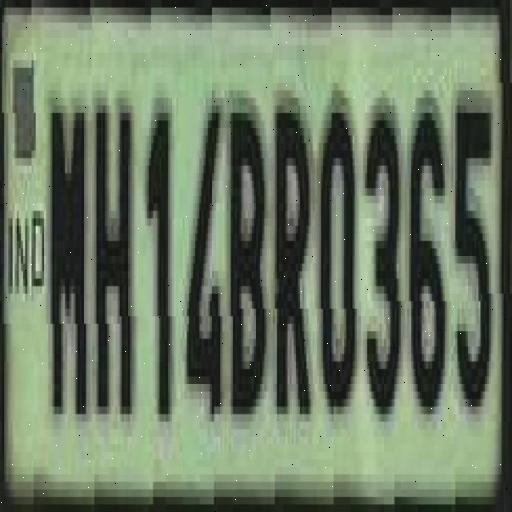number plate: (17, 0, 512, 505)
